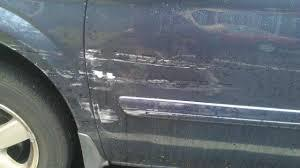doorouter-dent: (90, 12, 235, 167)
